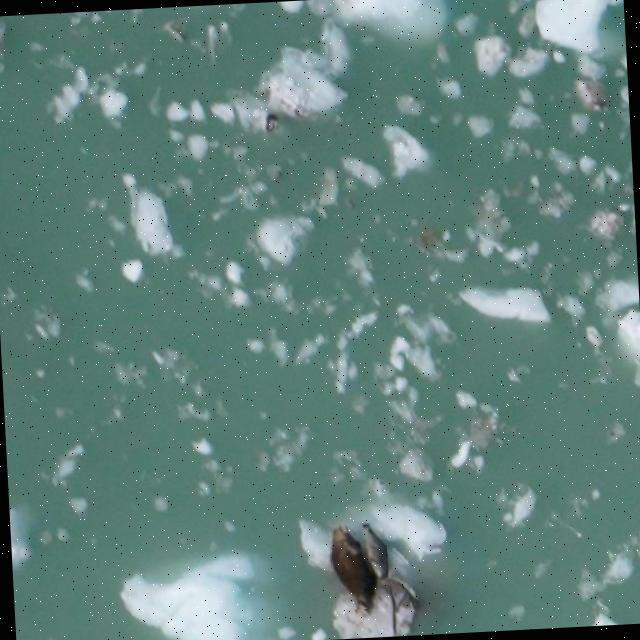seal: (318, 522, 388, 616), (360, 520, 393, 580)
